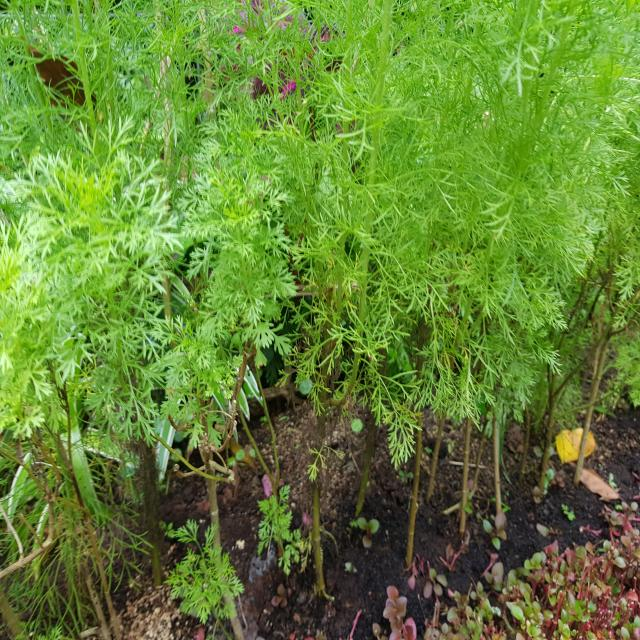Dill: (18, 125, 298, 572), (318, 93, 598, 534)
